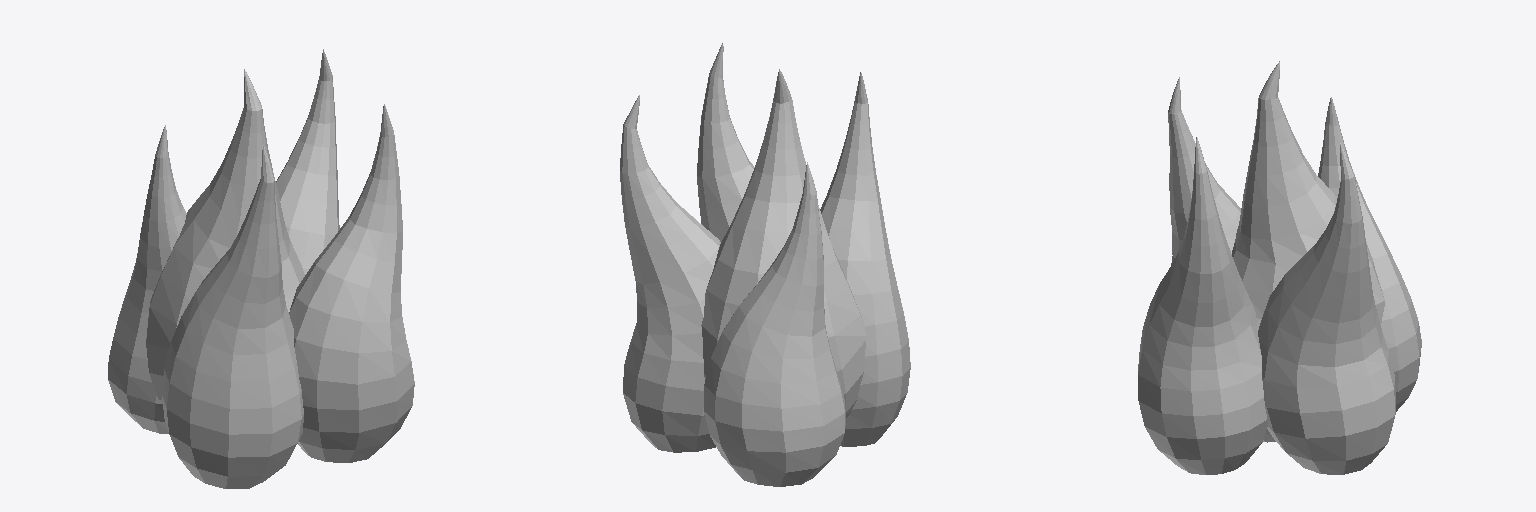
Rendered from fire_000029.obj.
The picture shows the model from 3 angles: view 1: azimuth 30°, elevation 25°; view 2: azimuth 150°, elevation 25°; view 3: azimuth 270°, elevation 25°; orthographic projection.
Parts seen in each view (by area): view 1: flame_NurbsPath.015; view 2: flame_NurbsPath.015; view 3: flame_NurbsPath.015.
Part boxes in pixels (x1,y1,x2,y2): flame_NurbsPath.015: (108, 49, 414, 488); flame_NurbsPath.015: (620, 43, 910, 486); flame_NurbsPath.015: (1138, 61, 1421, 474).
Size of the model in its own units: 0.7393 by 1.2 by 0.8127.